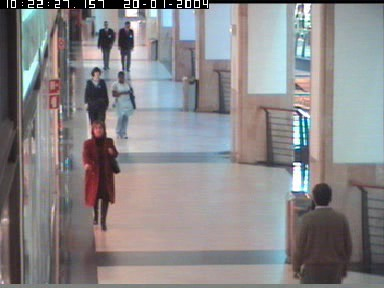person: (291, 183, 352, 284), (83, 120, 120, 232), (82, 67, 110, 137), (110, 72, 135, 140), (97, 20, 116, 70), (118, 20, 132, 70)
